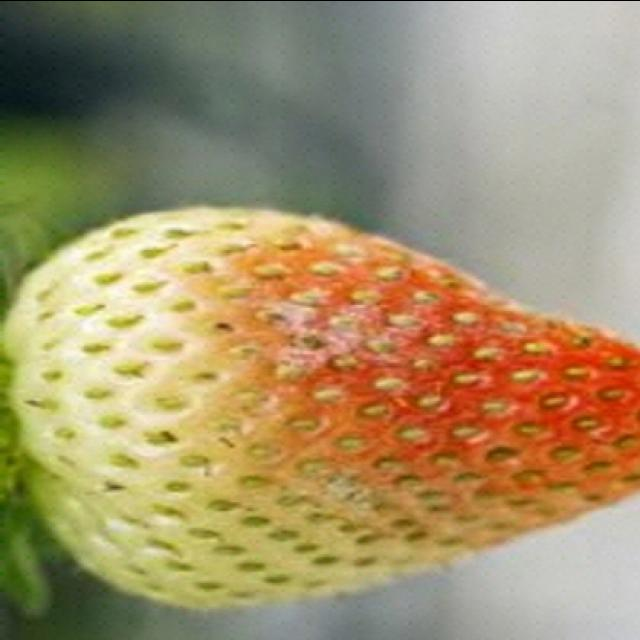Powdery Mildew Fruit: (229, 248, 526, 552)
